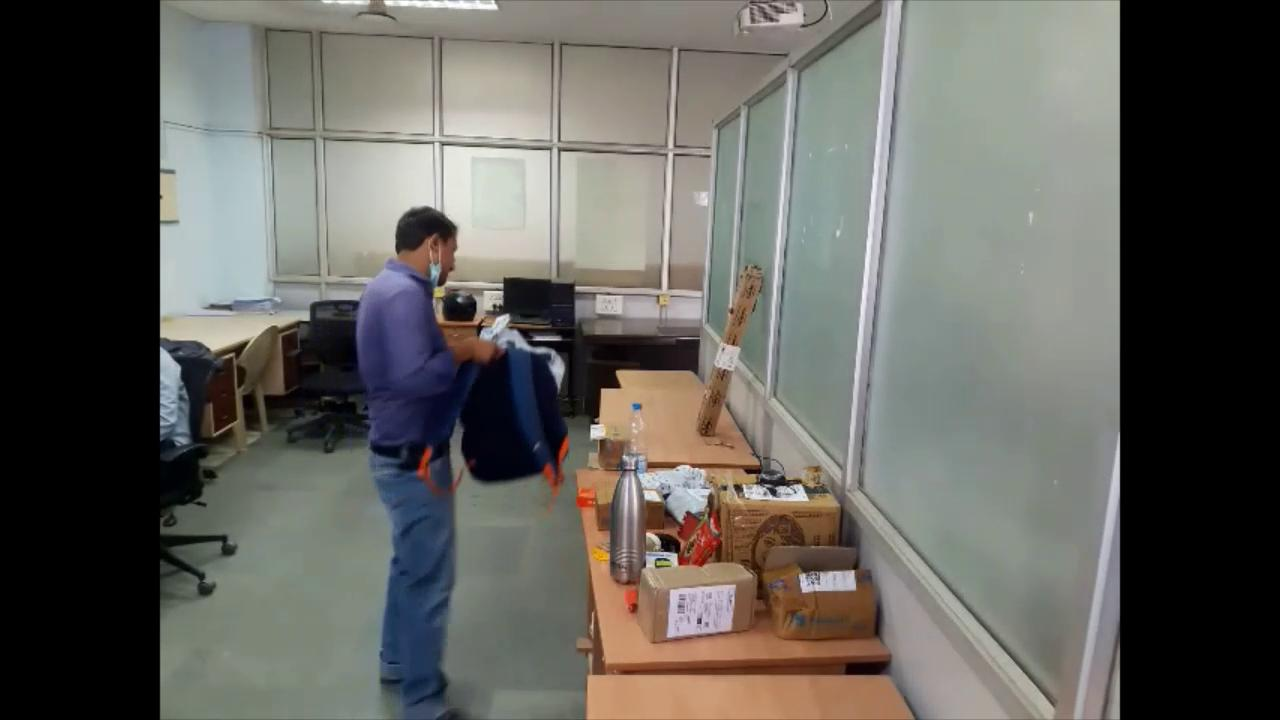shoplifting: (345, 206, 570, 713)
